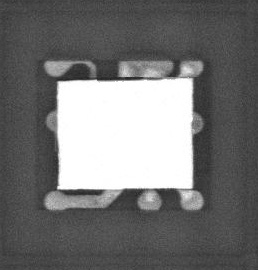DIE_BROKEN: (94, 75, 146, 83)
